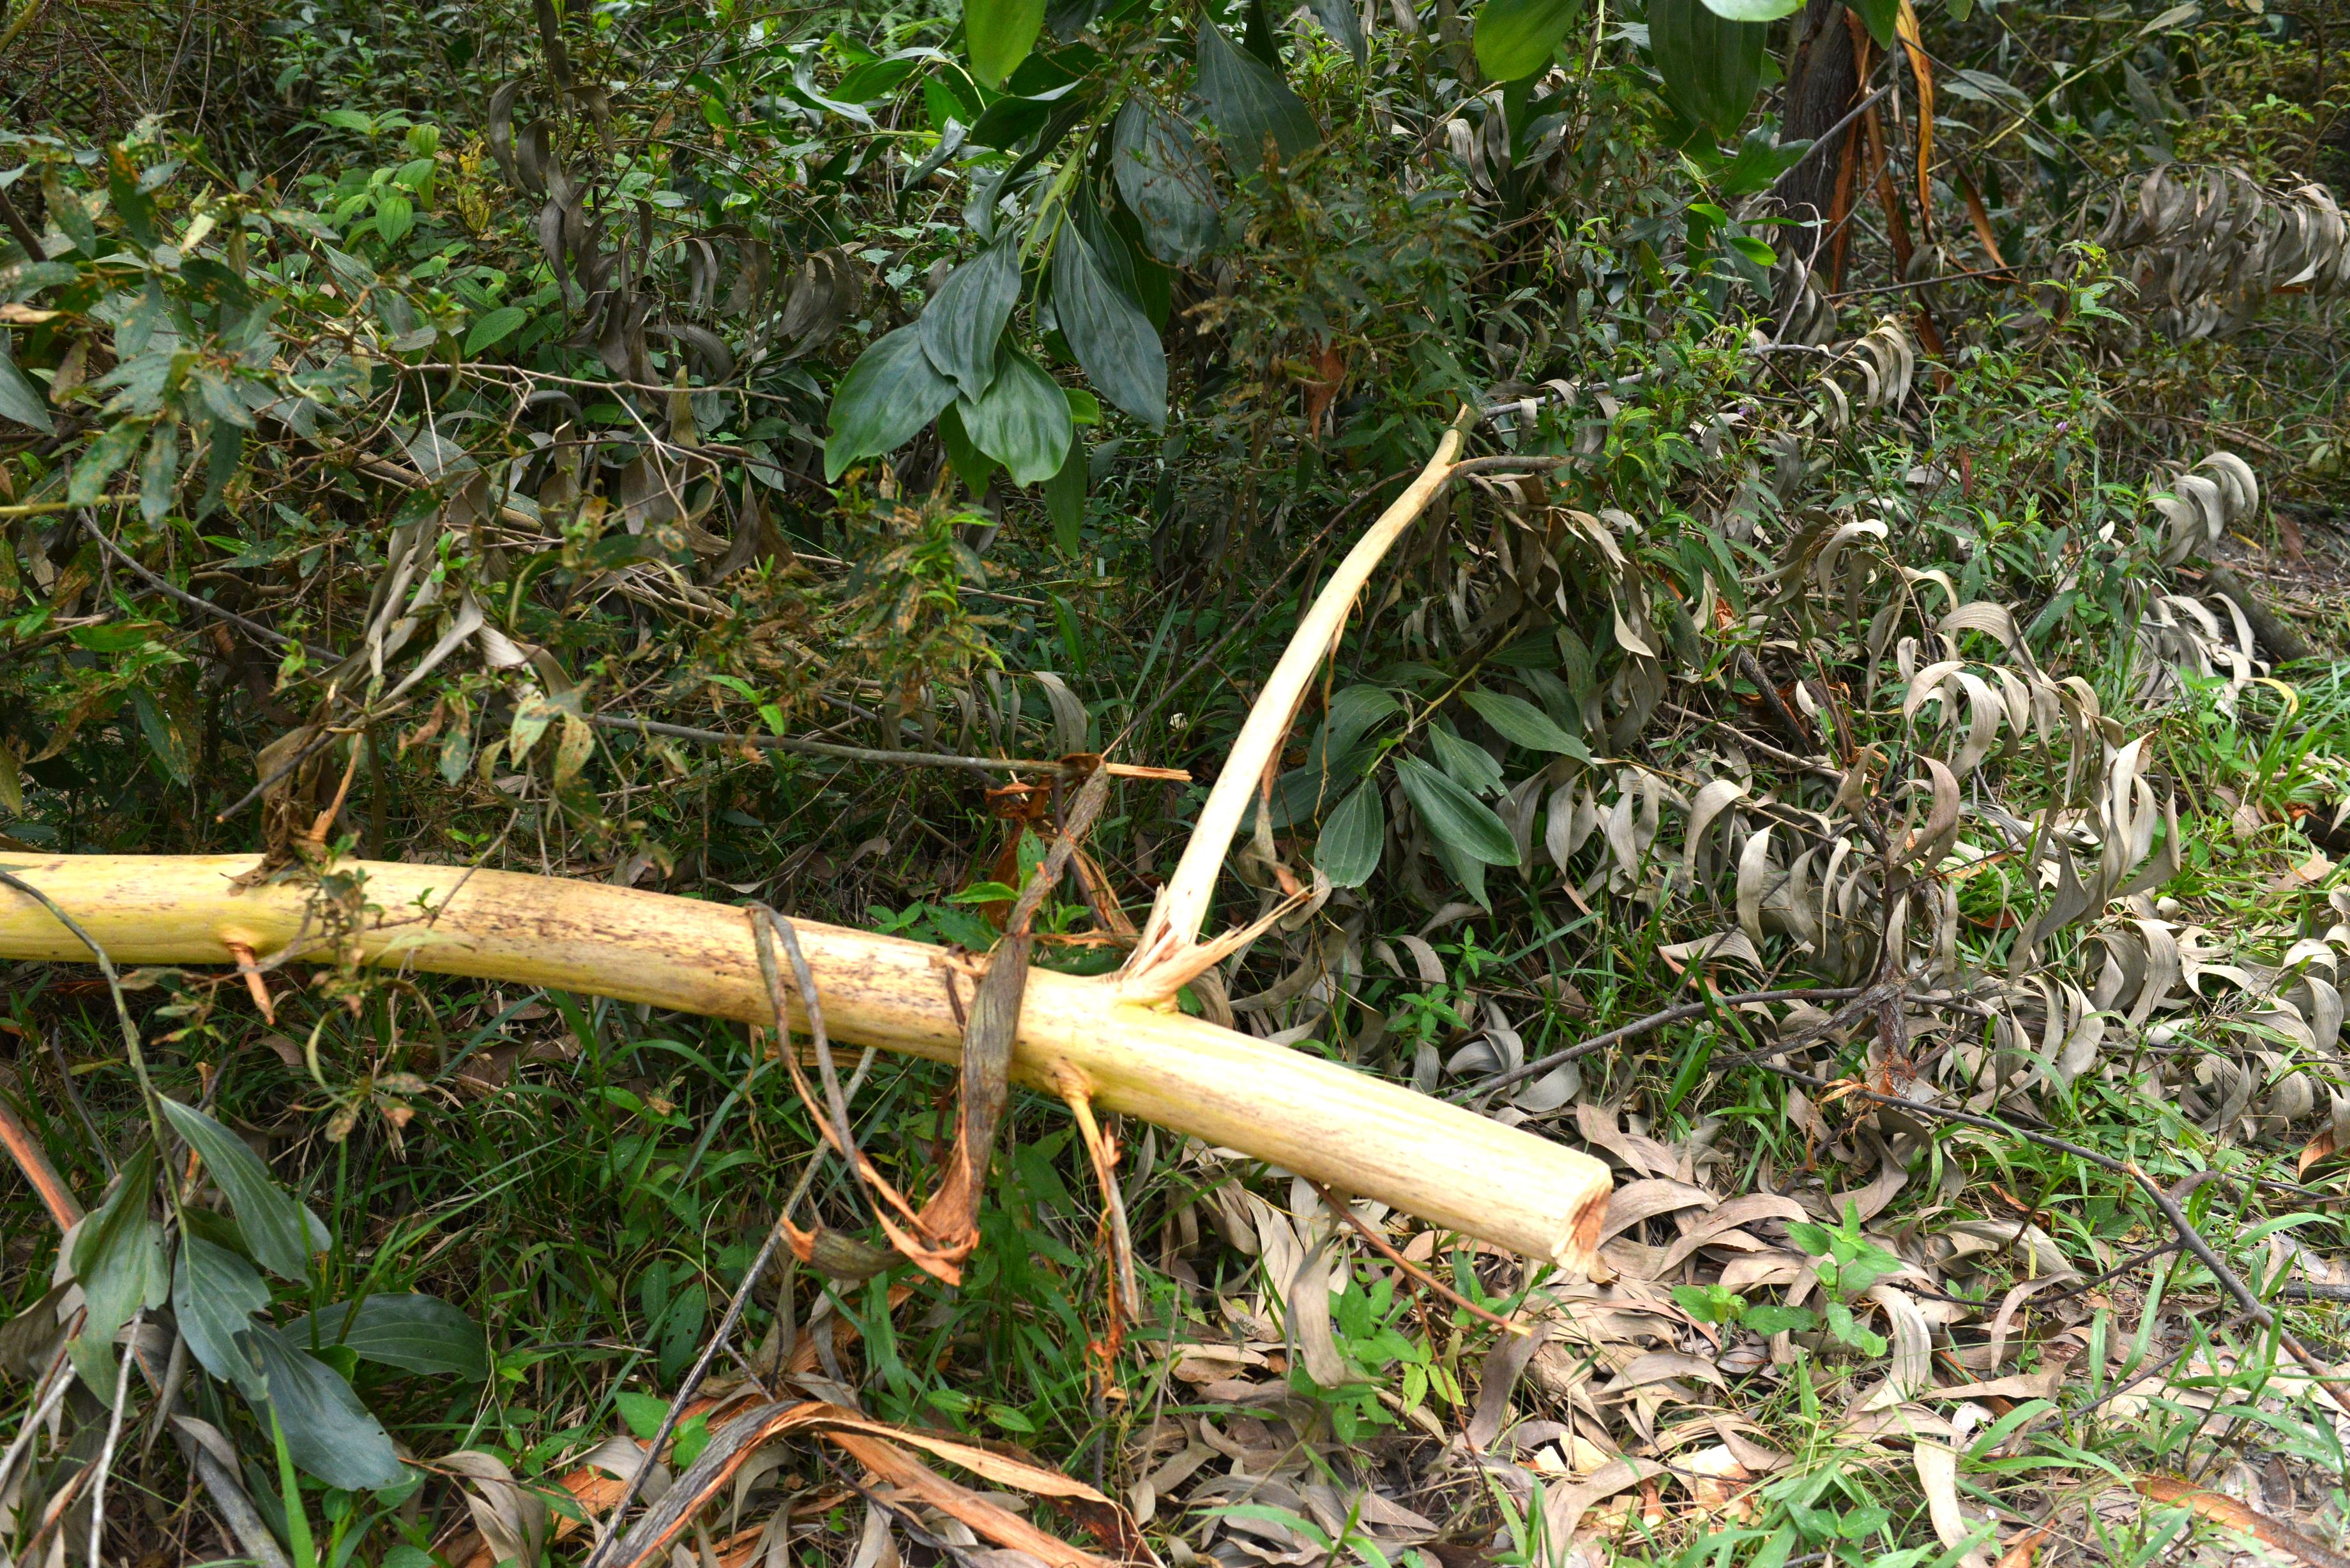Mammals Attack: (0, 394, 1613, 1286)
